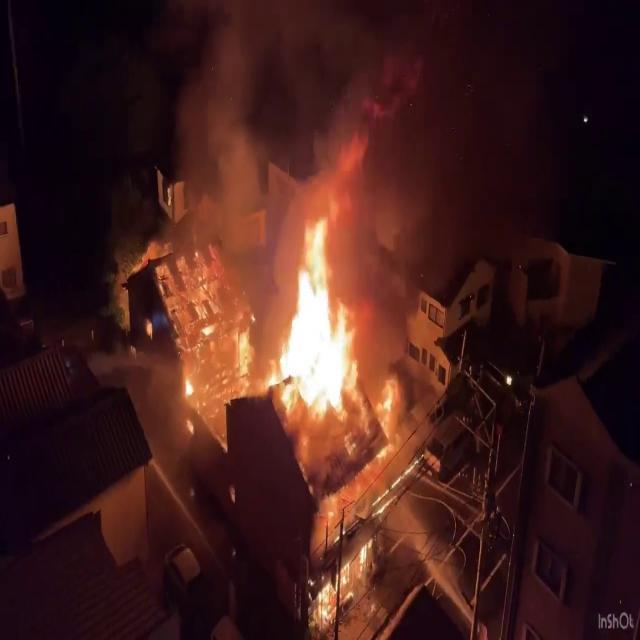Fire: (265, 205, 398, 420)
Smoke: (149, 0, 443, 265)
